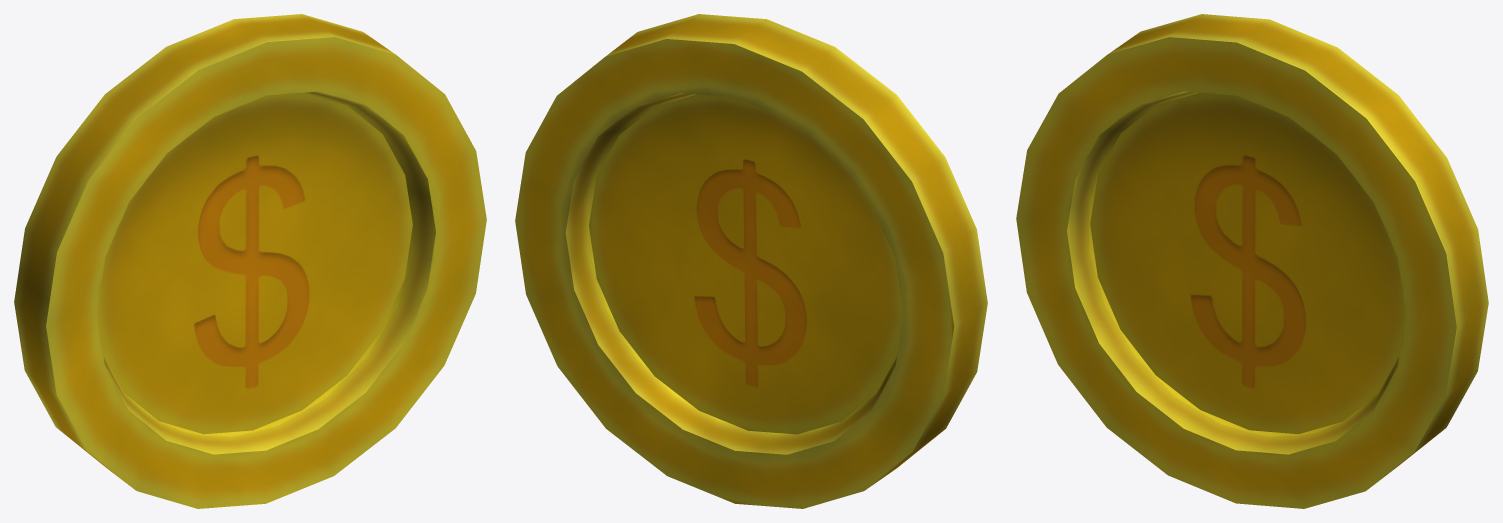
Rendered from CoinGold.obj.
3 renders of one model, left to right at view 1: azimuth 30°, elevation 25°; view 2: azimuth 150°, elevation 25°; view 3: azimuth 330°, elevation 25°, orthographic.
Parts seen in each view (by area): view 1: Default_Layer; view 2: Default_Layer; view 3: Default_Layer.
Part boxes in pixels (x1,y1,x2,y2): Default_Layer: [14, 14, 486, 508]; Default_Layer: [515, 14, 987, 508]; Default_Layer: [1016, 14, 1488, 508].
Bounding box in the file's own units: 0.4179 × 0.4179 × 0.0538.
